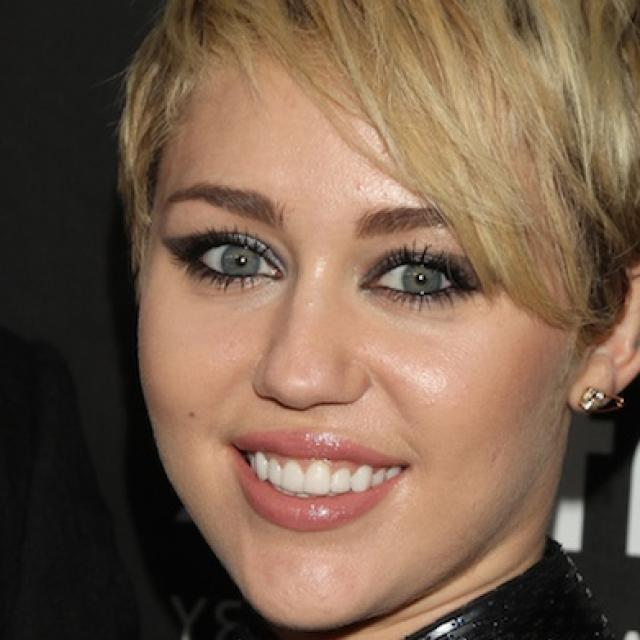Normal: (141, 41, 589, 624)
